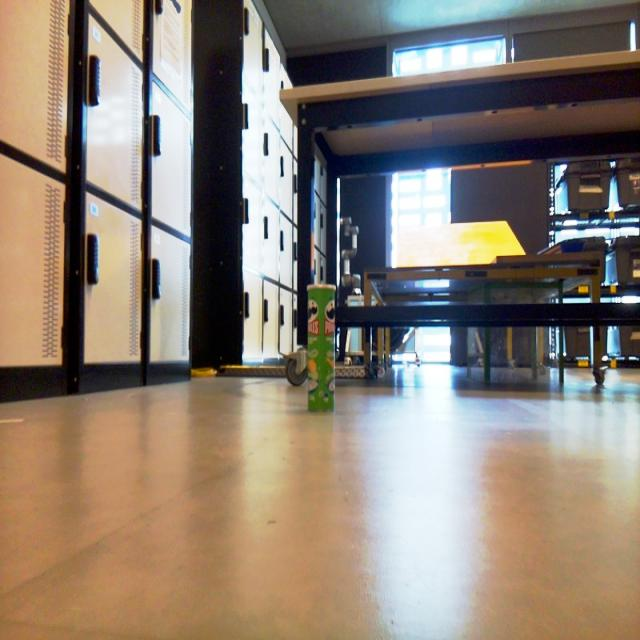greenpringles: (295, 266, 347, 427)
